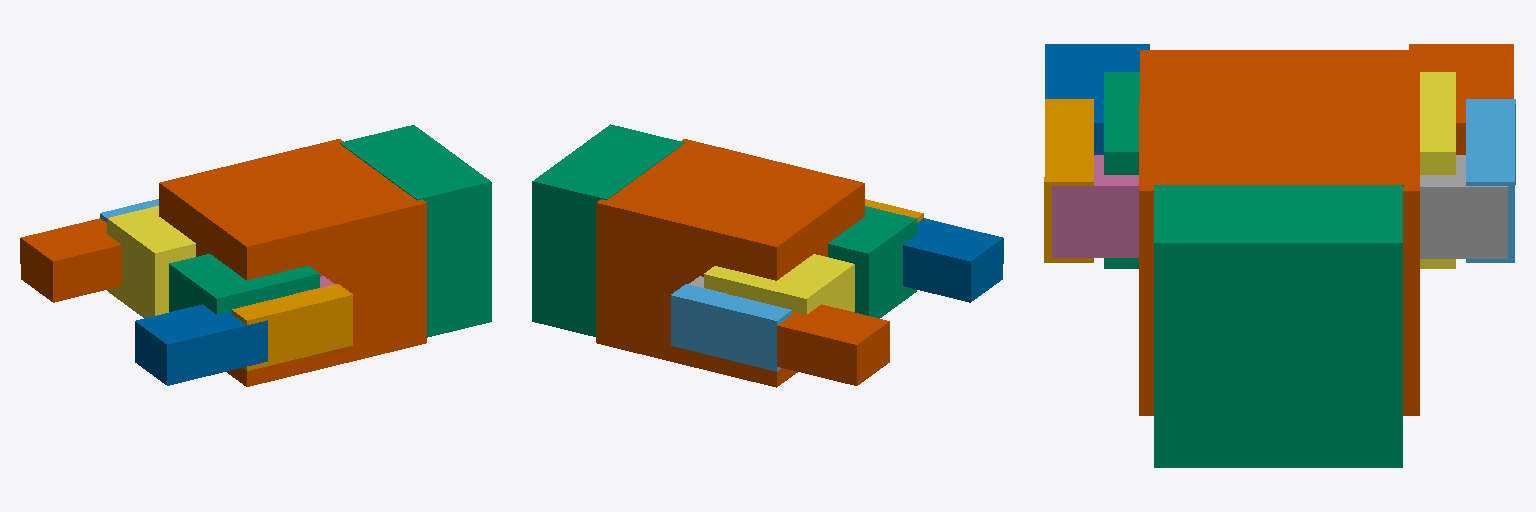
The robot description file, URDF, robot "ur5_robotiq85":
<?xml version="1.0" ?>
<!-- Expanded from ur/robots/ur5_robotiq_robot_limited.urdf.xacro of KavrakiLab robowflex_resources at fb37f07. scripts/robotgen/mesh_boxes.py replaced the Robotiq and FT 300 meshes with their bounding boxes. -->
<robot name="ur5_robotiq85">
  <link name="offset_link">
  </link>
 <joint name="offset_joint" type="fixed">
    <parent link="offset_link"/>
    <child link="base_link"/>
    <origin xyz="0.0 0.0 0.9144" rpy="0 0 1.57" />
 </joint>
  <link name="base_link">
    <visual>
      <geometry>
        <mesh filename="package://meshes/ur5/visual/base.dae"/>
      </geometry>
      <material name="LightGrey">
        <color rgba="0.7 0.7 0.7 1.0"/>
      </material>
    </visual>
    <collision>
      <geometry>
        <mesh filename="package://meshes/ur5/collision/base.stl"/>
      </geometry>
    </collision>
    <inertial>
      <mass value="4.0"/>
      <origin rpy="0 0 0" xyz="0.0 0.0 0.0"/>
      <inertia ixx="0.00443333156" ixy="0.0" ixz="0.0" iyy="0.00443333156" iyz="0.0" izz="0.0072"/>
    </inertial>
  </link>
  <joint name="shoulder_pan_joint" type="revolute">
    <parent link="base_link"/>
    <child link="shoulder_link"/>
    <origin rpy="0 0.0 0" xyz="0.0 0.0 0.089159"/>
    <axis xyz="0 0 1"/>
    <!-- <limit effort="150.0" lower="-3.14159265" upper="3.14159265" velocity="3.15"/> -->
    <limit effort="150.0" lower="-3.14159265" upper="3.14159265" velocity="0.5"/>
    <dynamics damping="0.0" friction="0.0"/>
  </joint>
  <link name="shoulder_link">
    <visual>
      <geometry>
        <mesh filename="package://meshes/ur5/visual/shoulder.dae"/>
      </geometry>
      <material name="LightGrey">
        <color rgba="0.7 0.7 0.7 1.0"/>
      </material>
    </visual>
    <collision>
      <geometry>
        <mesh filename="package://meshes/ur5/collision/shoulder.stl"/>
      </geometry>
    </collision>
    <inertial>
      <mass value="3.7"/>
      <origin rpy="0 0 0" xyz="0.0 0.0 0.0"/>
      <inertia ixx="0.010267495893" ixy="0.0" ixz="0.0" iyy="0.010267495893" iyz="0.0" izz="0.00666"/>
    </inertial>
  </link>
  <joint name="shoulder_lift_joint" type="revolute">
    <parent link="shoulder_link"/>
    <child link="upper_arm_link"/>
    <origin rpy="0.0 1.570796325 0.0" xyz="0.0 0.13585 0.0"/>
    <!--      <origin xyz="0.0 ${shoulder_offset} 0.0" rpy="0.0 ${angle_offset} 0.0" /> -->
    <axis xyz="0 1 0"/>
    <!-- <limit effort="150.0" lower="-3.14159265" upper="3.14159265" velocity="3.15"/> -->
    <limit effort="150.0" lower="-3.14159265" upper="3.14159265" velocity="0.5"/>
    <dynamics damping="0.0" friction="0.0"/>
  </joint>
  <link name="upper_arm_link">
    <visual>
      <geometry>
        <mesh filename="package://meshes/ur5/visual/upperarm.dae"/>
      </geometry>
      <material name="LightGrey">
        <color rgba="0.7 0.7 0.7 1.0"/>
      </material>
    </visual>
    <collision>
      <geometry>
        <mesh filename="package://meshes/ur5/collision/upperarm.stl"/>
      </geometry>
    </collision>
    <inertial>
      <mass value="8.393"/>
      <origin rpy="0 0 0" xyz="0.0 0.0 0.28"/>
      <inertia ixx="0.22689067591036005" ixy="0.0" ixz="0.0" iyy="0.22689067591036005" iyz="0.0" izz="0.0151074"/>
    </inertial>
  </link>
  <joint name="elbow_joint" type="revolute">
    <parent link="upper_arm_link"/>
    <child link="forearm_link"/>
    <origin rpy="0.0 0.0 0.0" xyz="0.0 -0.1197 0.425"/>
    <axis xyz="0 1 0"/>
    <!-- <limit effort="150.0" lower="-3.14159265" upper="3.14159265" velocity="3.15"/> -->
    <limit effort="150.0" lower="-3.14159265" upper="3.14159265" velocity="0.5"/>
    <dynamics damping="0.0" friction="0.0"/>
  </joint>
  <link name="forearm_link">
    <visual>
      <geometry>
        <mesh filename="package://meshes/ur5/visual/forearm.dae"/>
      </geometry>
      <material name="LightGrey">
        <color rgba="0.7 0.7 0.7 1.0"/>
      </material>
    </visual>
    <collision>
      <geometry>
        <mesh filename="package://meshes/ur5/collision/forearm.stl"/>
      </geometry>
    </collision>
    <inertial>
      <mass value="2.275"/>
      <origin rpy="0 0 0" xyz="0.0 0.0 0.25"/>
      <inertia ixx="0.04944331355599999" ixy="0.0" ixz="0.0" iyy="0.04944331355599999" iyz="0.0" izz="0.004095"/>
    </inertial>
  </link>
  <joint name="wrist_1_joint" type="revolute">
    <parent link="forearm_link"/>
    <child link="wrist_1_link"/>
    <origin rpy="0.0 1.570796325 0.0" xyz="0.0 0.0 0.39225"/>
    <axis xyz="0 1 0"/>
    <!-- <limit effort="28.0" lower="-3.14159265" upper="3.14159265" velocity="3.2"/> -->
    <limit effort="28.0" lower="-3.14159265" upper="3.14159265" velocity="0.5"/>
    <dynamics damping="0.0" friction="0.0"/>
  </joint>
  <link name="wrist_1_link">
    <visual>
      <geometry>
        <mesh filename="package://meshes/ur5/visual/wrist1.dae"/>
      </geometry>
      <material name="LightGrey">
        <color rgba="0.7 0.7 0.7 1.0"/>
      </material>
    </visual>
    <collision>
      <geometry>
        <mesh filename="package://meshes/ur5/collision/wrist1.stl"/>
      </geometry>
    </collision>
    <inertial>
      <mass value="1.219"/>
      <origin rpy="0 0 0" xyz="0.0 0.0 0.0"/>
      <inertia ixx="0.11117275553087999" ixy="0.0" ixz="0.0" iyy="0.11117275553087999" iyz="0.0" izz="0.21942"/>
    </inertial>
  </link>
  <joint name="wrist_2_joint" type="revolute">
    <parent link="wrist_1_link"/>
    <child link="wrist_2_link"/>
    <origin rpy="0.0 0.0 0.0" xyz="0.0 0.093 0.0"/>
    <axis xyz="0 0 1"/>
    <!-- <limit effort="28.0" lower="-3.14159265" upper="3.14159265" velocity="3.2"/> -->
    <limit effort="28.0" lower="-3.14159265" upper="3.14159265" velocity="0.5"/>
    <dynamics damping="0.0" friction="0.0"/>
  </joint>
  <link name="wrist_2_link">
    <visual>
      <geometry>
        <mesh filename="package://meshes/ur5/visual/wrist2.dae"/>
      </geometry>
      <material name="LightGrey">
        <color rgba="0.7 0.7 0.7 1.0"/>
      </material>
    </visual>
    <collision>
      <geometry>
        <mesh filename="package://meshes/ur5/collision/wrist2.stl"/>
      </geometry>
    </collision>
    <inertial>
      <mass value="1.219"/>
      <origin rpy="0 0 0" xyz="0.0 0.0 0.0"/>
      <inertia ixx="0.11117275553087999" ixy="0.0" ixz="0.0" iyy="0.11117275553087999" iyz="0.0" izz="0.21942"/>
    </inertial>
  </link>
  <joint name="wrist_3_joint" type="revolute">
    <parent link="wrist_2_link"/>
    <child link="wrist_3_link"/>
    <origin rpy="0.0 0.0 0.0" xyz="0.0 0.0 0.09465"/>
    <axis xyz="0 1 0"/>
    <!-- <limit effort="28.0" lower="-3.14159265" upper="3.14159265" velocity="3.2"/> -->
    <limit effort="28.0" lower="-3.14159265" upper="3.14159265" velocity="0.5"/>
    <dynamics damping="0.0" friction="0.0"/>
  </joint>
  <link name="wrist_3_link">
    <visual>
      <geometry>
        <mesh filename="package://meshes/ur5/visual/wrist3.dae"/>
      </geometry>
      <material name="LightGrey">
        <color rgba="0.7 0.7 0.7 1.0"/>
      </material>
    </visual>
    <collision>
      <geometry>
        <mesh filename="package://meshes/ur5/collision/wrist3.stl"/>
      </geometry>
    </collision>
    <inertial>
      <mass value="0.1879"/>
      <origin rpy="0 0 0" xyz="0.0 0.0 0.0"/>
      <inertia ixx="0.017136473145408" ixy="0.0" ixz="0.0" iyy="0.017136473145408" iyz="0.0" izz="0.033822"/>
    </inertial>
  </link>
  <joint name="ee_fixed_joint" type="fixed">
    <parent link="wrist_3_link"/>
    <child link="ee_link"/>
    <origin rpy="0.0 0.0 1.570796325" xyz="0.0 0.0823 0.0"/>
  </joint>
  <link name="ee_link">
    <collision>
      <geometry>
        <box size="0.01 0.01 0.01"/>
      </geometry>
      <origin rpy="0 0 0" xyz="-0.01 0 0"/>
    </collision>
  </link>
  <link name="tool0"/>
  <joint name="wrist_3_link-tool0_fixed_joint" type="fixed">
    <origin rpy="-1.570796325 0 0" xyz="0 0.0823 0"/>
    <parent link="wrist_3_link"/>
    <child link="tool0"/>
  </joint>
  <!-- mount the fts to the robot -->
  <joint name="fts_fix" type="fixed">
    <!--In most cases origin would be flange adapter plate: <origin xyz="0 0 0.009" rpy="0 0 0"/> /-->
    <origin rpy="0.0 0 -1.57" xyz="0.035 0 0.0"/>
    <parent link="ee_link"/>
    <child link="fts_robotside"/>
  </joint>
  <link name="fts_robotside">
    <inertial>
      <origin rpy="0 0 0" xyz="0 0 0.01875"/>
      <mass value="0.65"/>
      <inertia ixx="0.000661171875" ixy="0" ixz="0" iyy="0.000661171875" iyz="0" izz="0.00117"/>
    </inertial>
    <visual>
      <origin xyz="0.000165 -0.020745 0" rpy="0 0 0"/>
      <geometry>
				<box size="0.07533 0.04151 0.075"/>
      </geometry>
      <material name="black"/>
    </visual>
    <collision>
      <origin xyz="0.000165 -0.020745 0" rpy="0 0 0"/>
      <geometry>
				<box size="0.07533 0.04151 0.075"/>
      </geometry>
    </collision>
  </link>
  <!-- virtual measurement frame -->
  <joint name="measurment_joint" type="fixed">
    <origin rpy="0 0 0" xyz="0 0 0.01625"/>
    <parent link="fts_robotside"/>
    <child link="robotiq_force_torque_frame_id"/>
  </joint>
  <link name="robotiq_force_torque_frame_id"/>
  <!-- toolside frame -->
  <joint name="toolside_joint" type="fixed">
    <origin rpy="0 0 0" xyz="0 0 0.0375"/>
    <parent link="fts_robotside"/>
    <child link="fts_toolside"/>
  </joint>
  <link name="fts_toolside"/>
  <link name="robotiq_85_base_link">
    <visual>
      <origin xyz="0 0 0.04744" rpy="0 0 0"/>
      <geometry>
				<box size="0.0849 0.07502 0.1009"/>
      </geometry>
    </visual>
    <collision>
      <origin xyz="0 0 0.04744" rpy="0 0 0"/>
      <geometry>
				<box size="0.0849 0.07502 0.1009"/>
      </geometry>
    </collision>
    <inertial>
      <mass value="0.636951"/>
      <origin xyz="0.0 0.0 0.0"/>
      <inertia ixx="0.000380" ixy="0.000000" ixz="0.000000" iyx="0.000000" iyy="0.001110" iyz="0.000000" izx="0.000000" izy="0.000000" izz="0.001171"/>
    </inertial>
  </link>
  <link name="robotiq_85_left_knuckle_link">
    <visual>
      <origin xyz="0.015395 0 0.003295" rpy="0 0 0"/>
      <geometry>
				<box size="0.04579 0.02402 0.02247"/>
      </geometry>
    </visual>
    <collision>
      <origin xyz="0.015395 0 0.003295" rpy="0 0 0"/>
      <geometry>
				<box size="0.04579 0.02402 0.02247"/>
      </geometry>
    </collision>
    <inertial>
      <mass value="0.018491"/>
      <origin xyz="0.0 0.0 0.0"/>
      <inertia ixx="0.000009" ixy="-0.000001" ixz="0.000000" iyx="-0.000001" iyy="0.000001" iyz="0.000000" izx="0.000000" izy="0.000000" izz="0.000010"/>
    </inertial>
  </link>
  <link name="robotiq_85_right_knuckle_link">
    <visual>
      <origin xyz="0.015395 0 0.003295" rpy="0 0 0"/>
      <geometry>
				<box size="0.04579 0.02402 0.02247"/>
      </geometry>
    </visual>
    <collision>
      <origin xyz="0.015395 0 0.003295" rpy="0 0 0"/>
      <geometry>
				<box size="0.04579 0.02402 0.02247"/>
      </geometry>
    </collision>
    <inertial>
      <mass value="0.018491"/>
      <origin xyz="0.0 0.0 0.0"/>
      <inertia ixx="0.000009" ixy="-0.000001" ixz="0.000000" iyx="-0.000001" iyy="0.000001" iyz="0.000000" izx="0.000000" izy="0.000000" izz="0.000010"/>
    </inertial>
  </link>
  <link name="robotiq_85_left_finger_link">
    <visual>
      <origin xyz="0.00145 0 0.023715" rpy="0 0 0"/>
      <geometry>
				<box size="0.01488 0.02702 0.05943"/>
      </geometry>
    </visual>
    <collision>
      <origin xyz="0.00145 0 0.023715" rpy="0 0 0"/>
      <geometry>
				<box size="0.01488 0.02702 0.05943"/>
      </geometry>
    </collision>
    <inertial>
      <mass value="0.027309"/>
      <origin xyz="0.0 0.0 0.0"/>
      <inertia ixx="0.000003" ixy="-0.000002" ixz="0.000000" iyx="-0.000002" iyy="0.000021" iyz="0.000000" izx="0.000000" izy="0.000000" izz="0.000020"/>
    </inertial>
  </link>
  <link name="robotiq_85_right_finger_link">
    <visual>
      <origin xyz="0.00145 0 0.023715" rpy="0 0 0"/>
      <geometry>
				<box size="0.01488 0.02702 0.05943"/>
      </geometry>
    </visual>
    <collision>
      <origin xyz="0.00145 0 0.023715" rpy="0 0 0"/>
      <geometry>
				<box size="0.01488 0.02702 0.05943"/>
      </geometry>
    </collision>
    <inertial>
      <mass value="0.027309"/>
      <origin xyz="0.0 0.0 0.0"/>
      <inertia ixx="0.000003" ixy="-0.000002" ixz="0.000000" iyx="-0.000002" iyy="0.000021" iyz="0.000000" izx="0.000000" izy="0.000000" izz="0.000020"/>
    </inertial>
  </link>
  <link name="robotiq_85_left_inner_knuckle_link">
    <visual>
      <origin xyz="0.01729 0 0.02275" rpy="0 0 0"/>
      <geometry>
				<box size="0.04658 0.03902 0.0575"/>
      </geometry>
    </visual>
    <collision>
      <origin xyz="0.01729 0 0.02275" rpy="0 0 0"/>
      <geometry>
				<box size="0.04658 0.03902 0.0575"/>
      </geometry>
    </collision>
    <inertial>
      <mass value="0.029951"/>
      <origin xyz="0.0 0.0 0.0"/>
      <inertia ixx="0.000039" ixy="0.000000" ixz="0.000000" iyx="0.000000" iyy="0.000005" iyz="0.000000" izx="0.000000" izy="0.000000" izz="0.000035"/>
    </inertial>
  </link>
  <link name="robotiq_85_right_inner_knuckle_link">
    <visual>
      <origin xyz="0.01729 0 0.02275" rpy="0 0 0"/>
      <geometry>
				<box size="0.04658 0.03902 0.0575"/>
      </geometry>
    </visual>
    <collision>
      <origin xyz="0.01729 0 0.02275" rpy="0 0 0"/>
      <geometry>
				<box size="0.04658 0.03902 0.0575"/>
      </geometry>
    </collision>
    <inertial>
      <mass value="0.029951"/>
      <origin xyz="0.0 0.0 0.0"/>
      <inertia ixx="0.000039" ixy="0.000000" ixz="0.000000" iyx="0.000000" iyy="0.000005" iyz="0.000000" izx="0.000000" izy="0.000000" izz="0.000035"/>
    </inertial>
  </link>
  <link name="robotiq_85_left_finger_tip_link">
    <visual>
      <origin xyz="0.00805 0 0.01574" rpy="0 0 0"/>
      <geometry>
				<box size="0.03172 0.022 0.05652"/>
      </geometry>
    </visual>
    <collision>
      <origin xyz="0.00805 0 0.01574" rpy="0 0 0"/>
      <geometry>
				<box size="0.03172 0.022 0.05652"/>
      </geometry>
    </collision>
    <inertial>
      <mass value="0.019555"/>
      <origin xyz="0.0 0.0 0.0"/>
      <inertia ixx="0.000002" ixy="0.000000" ixz="0.000000" iyx="0.000000" iyy="0.000005" iyz="0.000000" izx="0.000000" izy="0.000000" izz="0.000006"/>
    </inertial>
  </link>
  <link name="robotiq_85_right_finger_tip_link">
    <visual>
      <origin xyz="0.00805 0 0.01574" rpy="0 0 0"/>
      <geometry>
				<box size="0.03172 0.022 0.05652"/>
      </geometry>
    </visual>
    <collision>
      <origin xyz="0.00805 0 0.01574" rpy="0 0 0"/>
      <geometry>
				<box size="0.03172 0.022 0.05652"/>
      </geometry>
    </collision>
    <inertial>
      <mass value="0.019555"/>
      <origin xyz="0.0 0.0 0.0"/>
      <inertia ixx="0.000002" ixy="0.000000" ixz="0.000000" iyx="0.000000" iyy="0.000005" iyz="0.000000" izx="0.000000" izy="0.000000" izz="0.000006"/>
    </inertial>
  </link>
	<joint name="robotiq_85_base_joint" type="fixed">
		<parent link="fts_toolside"></parent>
		<child link="robotiq_85_base_link"></child>
		<origin rpy="-1.57 0.0 0.0" xyz="0.0 0.0 -0.037"></origin>
	</joint>
	<joint name="robotiq_85_left_knuckle_joint" type="fixed">
		<origin xyz="0.0306011444260539 0 0.0627920162695395" rpy="0 0 0"></origin>
		<parent link="robotiq_85_base_link"></parent>
		<child link="robotiq_85_left_knuckle_link"></child>
		<axis xyz="0 -1 0"></axis>
	</joint>
	<joint name="robotiq_85_left_finger_joint" type="fixed">
		<origin xyz="0.0316910442266543 0 -0.00193396375724605" rpy="0 0 0"></origin>
		<parent link="robotiq_85_left_knuckle_link"></parent>
		<child link="robotiq_85_left_finger_link"></child>
		<axis xyz="0 -1 0"></axis>
	</joint>
	<joint name="robotiq_85_left_inner_knuckle_joint" type="fixed">
		<origin xyz="0.0127000000001501 0 0.0693074999999639" rpy="0 0 0"></origin>
		<parent link="robotiq_85_base_link"></parent>
		<child link="robotiq_85_left_inner_knuckle_link"></child>
		<axis xyz="0 -1 0"></axis>
	</joint>
	<joint name="robotiq_85_left_finger_tip_joint" type="fixed">
		<origin xyz="0.034585310861294 0 0.0454970193817975" rpy="0 0 0"></origin>
		<parent link="robotiq_85_left_inner_knuckle_link"></parent>
		<child link="robotiq_85_left_finger_tip_link"></child>
		<axis xyz="0 -1 0"></axis>
	</joint>
	<joint name="robotiq_85_right_inner_knuckle_joint" type="fixed">
		<origin xyz="-0.0126999999998499 0 0.0693075000000361" rpy="0 0 3.14159265358979"></origin>
		<parent link="robotiq_85_base_link"></parent>
		<child link="robotiq_85_right_inner_knuckle_link"></child>
		<axis xyz="0 1 0"></axis>
	</joint>
	<joint name="robotiq_85_right_finger_tip_joint" type="fixed">
		<origin xyz="0.0341060475457406 0 0.0458573878541688" rpy="0 0 0"></origin>
		<parent link="robotiq_85_right_inner_knuckle_link"></parent>
		<child link="robotiq_85_right_finger_tip_link"></child>
		<axis xyz="0 1 0"></axis>
	</joint>
	<joint name="robotiq_85_right_knuckle_joint" type="fixed">
		<origin xyz="-0.0306011444258893 0 0.0627920162695395" rpy="0 0 3.14159265358979"></origin>
		<parent link="robotiq_85_base_link"></parent>
		<child link="robotiq_85_right_knuckle_link"></child>
		<axis xyz="0 1 0"></axis>
	</joint>
	<joint name="robotiq_85_right_finger_joint" type="fixed">
		<origin xyz="0.0317095909367246 0 -0.0016013564954687" rpy="0 0 0"></origin>
		<parent link="robotiq_85_right_knuckle_link"></parent>
		<child link="robotiq_85_right_finger_link"></child>
		<axis xyz="0 1 0"></axis>
	</joint>
</robot>

--- Facts derived from the render (not from the file) ---
The picture shows the robot from 3 angles, left to right: view 1: azimuth 30°, elevation 25°; view 2: azimuth 150°, elevation 25°; view 3: azimuth 270°, elevation 25°; orthographic projection.
Robot: ur5_robotiq85 — 22 links, 21 joints (6 revolute, 15 fixed); root link offset_link; default pose: all joints at 0.
Links seen in each view (by area): view 1: robotiq_85_base_link, fts_robotside, robotiq_85_left_finger_tip_link, robotiq_85_right_finger_tip_link, robotiq_85_left_finger_link, robotiq_85_right_inner_knuckle_link, robotiq_85_left_inner_knuckle_link; view 2: robotiq_85_base_link, fts_robotside, robotiq_85_right_finger_tip_link, robotiq_85_right_finger_link, robotiq_85_left_finger_tip_link, robotiq_85_left_inner_knuckle_link, robotiq_85_right_inner_knuckle_link; view 3: fts_robotside, robotiq_85_base_link, robotiq_85_right_knuckle_link, robotiq_85_left_knuckle_link, robotiq_85_left_finger_link, robotiq_85_right_finger_link, robotiq_85_left_finger_tip_link, robotiq_85_right_finger_tip_link, robotiq_85_right_inner_knuckle_link, robotiq_85_left_inner_knuckle_link.
Link boxes in pixels (x1=…): robotiq_85_base_link: x1=159, y1=139, x2=426, y2=386; fts_robotside: x1=340, y1=125, x2=491, y2=337; robotiq_85_left_finger_tip_link: x1=135, y1=304, x2=267, y2=385; robotiq_85_right_finger_tip_link: x1=20, y1=218, x2=121, y2=302; robotiq_85_left_finger_link: x1=232, y1=284, x2=352, y2=370; robotiq_85_right_inner_knuckle_link: x1=107, y1=206, x2=195, y2=317; robotiq_85_left_inner_knuckle_link: x1=169, y1=254, x2=319, y2=314; robotiq_85_base_link: x1=596, y1=139, x2=864, y2=387; fts_robotside: x1=532, y1=124, x2=684, y2=336; robotiq_85_right_finger_tip_link: x1=777, y1=304, x2=889, y2=385; robotiq_85_right_finger_link: x1=671, y1=284, x2=791, y2=371; robotiq_85_left_finger_tip_link: x1=903, y1=218, x2=1003, y2=302; robotiq_85_left_inner_knuckle_link: x1=828, y1=206, x2=916, y2=318; robotiq_85_right_inner_knuckle_link: x1=704, y1=254, x2=854, y2=314; fts_robotside: x1=1154, y1=185, x2=1403, y2=467; robotiq_85_base_link: x1=1139, y1=50, x2=1419, y2=415; robotiq_85_right_knuckle_link: x1=1420, y1=155, x2=1507, y2=258; robotiq_85_left_knuckle_link: x1=1052, y1=155, x2=1138, y2=257; robotiq_85_left_finger_link: x1=1044, y1=99, x2=1093, y2=262; robotiq_85_right_finger_link: x1=1466, y1=99, x2=1515, y2=262; robotiq_85_left_finger_tip_link: x1=1045, y1=44, x2=1149, y2=154; robotiq_85_right_finger_tip_link: x1=1409, y1=44, x2=1513, y2=154; robotiq_85_right_inner_knuckle_link: x1=1420, y1=72, x2=1455, y2=268; robotiq_85_left_inner_knuckle_link: x1=1104, y1=72, x2=1139, y2=268.
Bounding box of the posed robot: 0.2007 × 0.1425 × 0.0756 m (x, y, z).
Meshes: 7 distinct files referenced, 0 mesh visuals loaded (none loaded); not drawn: 7 (reference not matched to a file when rendering).
